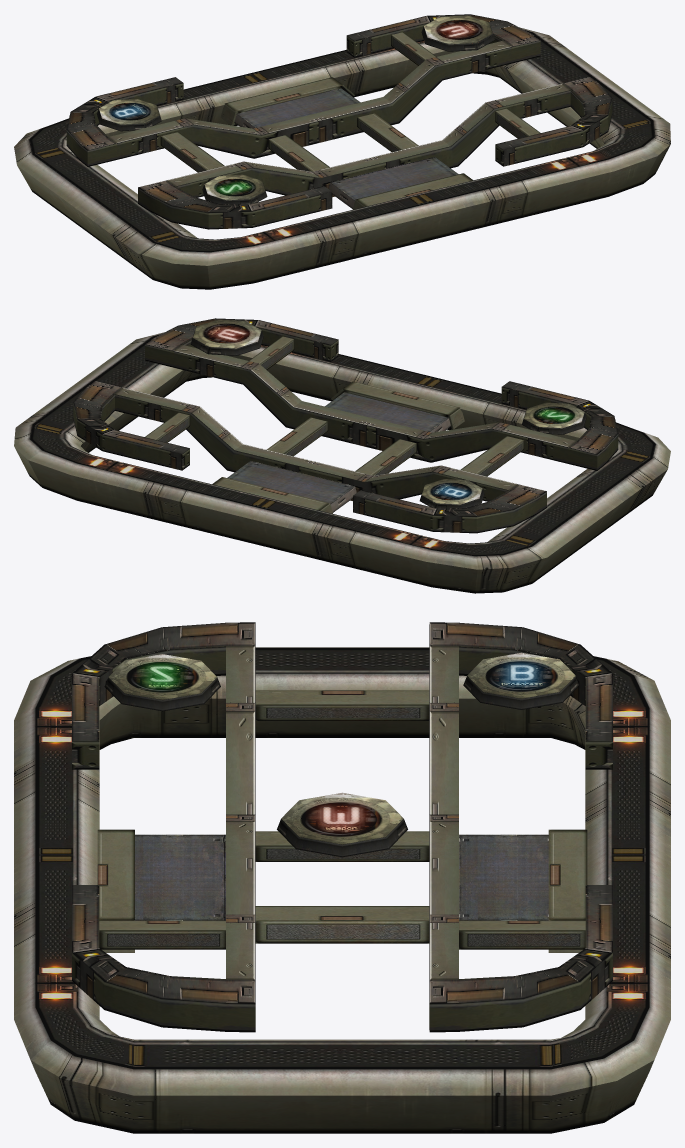
Rendered from medium_unit.obj.
3 renders of one model, top to bottom at view 1: azimuth 30°, elevation 25°; view 2: azimuth 150°, elevation 25°; view 3: azimuth 270°, elevation 25°, orthographic. The views are drawn at different scales.
Visible parts, largest first — view 1: group5 pTorus1, pCube1 group5, group5 pCube2, group5 pCube8, group5 pCube3, group5 pCylinder53, group5 pCube10, group5 pCylinder52, group5 pCylinder51, group5 pCube4, group5 pCube9, group5 pCube11 (+3 smaller); view 2: group5 pTorus1, group5 pCube2, pCube1 group5, group5 pCube3, group5 pCube8, group5 pCylinder53, group5 pCube9, group5 pCylinder51, group5 pCylinder52, group5 pCube4, group5 pCube10, group5 pCube11 (+3 smaller); view 3: group5 pTorus1, pCube1 group5, group5 pCube2, group5 pCube8, group5 pCube3, group5 pCube11, group5 pCylinder53, group5 pCube4, group5 pCylinder51, group5 pCylinder52, group5 pCube6, group5 pCube7 (+3 smaller).
Boxes of the visible parts, left/top/right/bottom form: group5 pTorus1: left=14, top=27, right=670, bottom=289; pCube1 group5: left=138, top=77, right=612, bottom=229; group5 pCube2: left=66, top=14, right=540, bottom=166; group5 pCube8: left=328, top=157, right=458, bottom=208; group5 pCube3: left=234, top=88, right=360, bottom=128; group5 pCylinder53: left=421, top=15, right=494, bottom=51; group5 pCube10: left=220, top=77, right=354, bottom=125; group5 pCylinder52: left=97, top=99, right=161, bottom=131; group5 pCylinder51: left=202, top=174, right=267, bottom=204; group5 pCube4: left=160, top=132, right=224, bottom=172; group5 pCube9: left=352, top=173, right=472, bottom=209; group5 pCube11: left=357, top=113, right=418, bottom=152; group5 pTorus1: left=14, top=332, right=670, bottom=593; group5 pCube2: left=73, top=381, right=546, bottom=533; pCube1 group5: left=145, top=318, right=618, bottom=470; group5 pCube3: left=227, top=461, right=356, bottom=512; group5 pCube8: left=325, top=392, right=450, bottom=432; group5 pCylinder53: left=190, top=319, right=263, bottom=355; group5 pCube9: left=330, top=381, right=464, bottom=429; group5 pCylinder51: left=522, top=402, right=586, bottom=434; group5 pCylinder52: left=419, top=479, right=484, bottom=508; group5 pCube4: left=460, top=436, right=524, bottom=476; group5 pCube10: left=212, top=477, right=332, bottom=513; group5 pCube11: left=267, top=417, right=328, bottom=456; group5 pTorus1: left=14, top=647, right=670, bottom=1133; pCube1 group5: left=72, top=622, right=255, bottom=1032; group5 pCube2: left=429, top=622, right=612, bottom=1032; group5 pCube8: left=135, top=834, right=225, bottom=920; group5 pCube3: left=459, top=834, right=548, bottom=920; group5 pCube11: left=255, top=906, right=429, bottom=943; group5 pCylinder53: left=277, top=792, right=407, bottom=857; group5 pCube4: left=255, top=690, right=429, bottom=720; group5 pCylinder51: left=104, top=654, right=220, bottom=711; group5 pCylinder52: left=463, top=652, right=579, bottom=709; group5 pCube6: left=99, top=920, right=225, bottom=949; group5 pCube7: left=459, top=920, right=585, bottom=949.
Bounding box in the file's own units: 38.88 × 8.15 × 24.07.
Materials: 5 (5 with a texture image).
